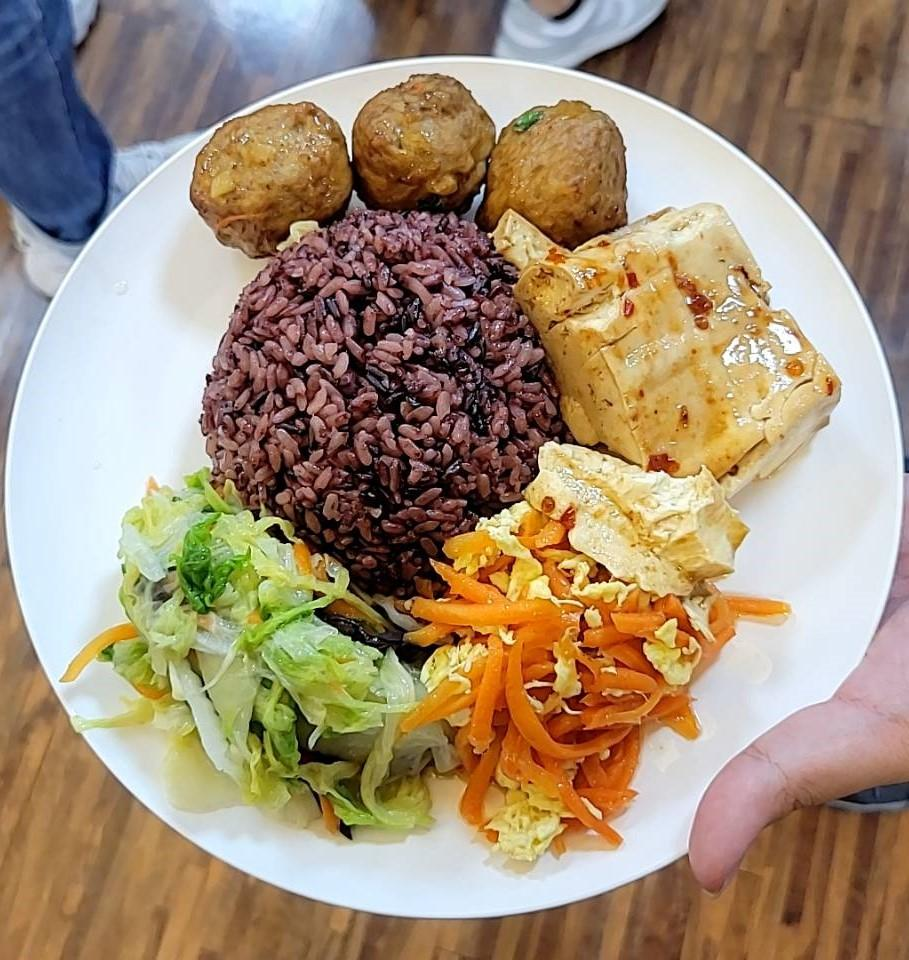big fried chicken leg: (0, 42, 909, 927)
braised fish: (196, 218, 563, 586)
braised fish fillet: (422, 451, 786, 853), (108, 486, 436, 837), (523, 196, 844, 503)
braised pork: (183, 68, 642, 252)
